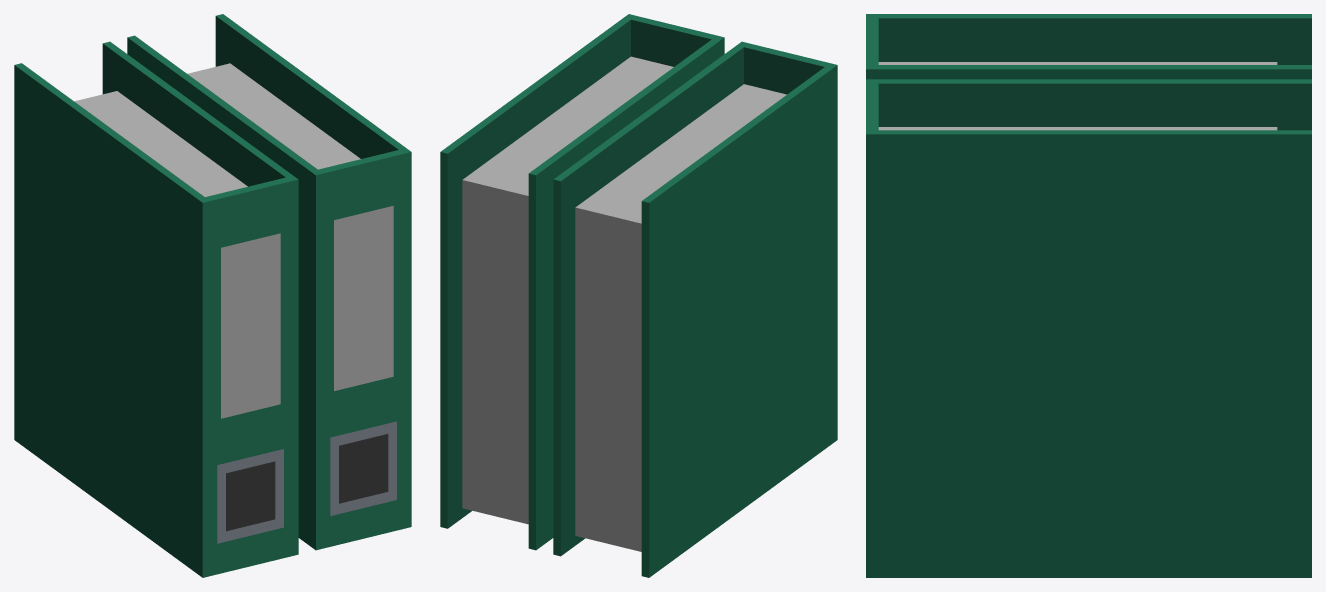
File: SO_Boxfile_04.fbx
3 renders of one model, left to right at view 1: azimuth 30°, elevation 25°; view 2: azimuth 150°, elevation 25°; view 3: azimuth 270°, elevation 25°, orthographic. The views are drawn at different scales.
Visible parts, largest first — view 1: SO_Boxfile_04; view 2: SO_Boxfile_04; view 3: SO_Boxfile_04.
Part boxes in pixels (x1=…): SO_Boxfile_04: x1=14, y1=14, x2=411, y2=577; SO_Boxfile_04: x1=440, y1=14, x2=837, y2=577; SO_Boxfile_04: x1=866, y1=14, x2=1311, y2=577.
Bounding box in the file's own units: 0.3804 × 0.6529 × 0.5946.
